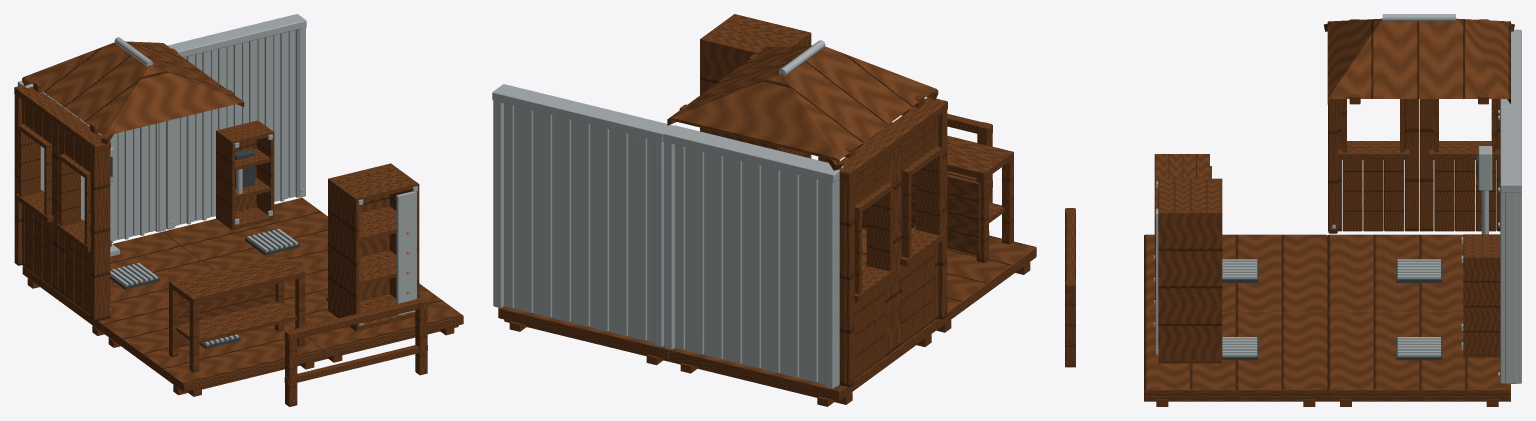
File: roadside-survival-stops-construction-and-service-corne-1941d356__23586.glb
The picture shows the model from 3 angles, left to right: view 1: azimuth 30°, elevation 25°; view 2: azimuth 150°, elevation 25°; view 3: azimuth 270°, elevation 25°; orthographic projection. The views are drawn at different scales.
Visible parts, largest first — view 1: 005-service-bay-side/0, 006-rest-stop-window-wall/0, 007-pump-canopy-corner/0, 010-vending-cabinet-shell/0, 011-service-window-counter/0, 001-service-floor-drain/0, 004-service-bay-side/0, 002-service-floor-drain/0, 000-service-floor-drain/0, 008-payphone-enclosure/0, 003-service-floor-drain/0, 012-modular-survival-base-builder--straight-guardrail/0 (+4 smaller); view 2: 004-service-bay-side/0, 005-service-bay-side/0, 006-rest-stop-window-wall/0, 007-pump-canopy-corner/0, 011-service-window-counter/0, 010-vending-cabinet-shell/0, 001-service-floor-drain/0, 000-service-floor-drain/0, 002-service-floor-drain/0, 012-modular-survival-base-builder--straight-guardrail/0, 007-pump-canopy-corner/1; view 3: 006-rest-stop-window-wall/0, 007-pump-canopy-corner/0, 002-service-floor-drain/0, 003-service-floor-drain/0, 010-vending-cabinet-shell/0, 000-service-floor-drain/0, 001-service-floor-drain/0, 005-service-bay-side/0, 008-payphone-enclosure/0, 012-modular-survival-base-builder--straight-guardrail/0, 011-service-window-counter/0, 009-emergency-call-post/0 (+7 smaller).
Part boxes in pixels (<box>): 005-service-bay-side/0: <box>166,14,306,229</box>; 006-rest-stop-window-wall/0: <box>14,85,111,321</box>; 007-pump-canopy-corner/0: <box>22,41,244,144</box>; 010-vending-cabinet-shell/0: <box>328,163,419,331</box>; 011-service-window-counter/0: <box>169,254,305,372</box>; 001-service-floor-drain/0: <box>103,309,323,396</box>; 004-service-bay-side/0: <box>17,81,165,242</box>; 002-service-floor-drain/0: <box>163,197,327,275</box>; 000-service-floor-drain/0: <box>22,232,214,335</box>; 008-payphone-enclosure/0: <box>216,120,274,230</box>; 003-service-floor-drain/0: <box>284,270,463,362</box>; 012-modular-survival-base-builder--straight-guardrail/0: <box>284,297,427,406</box>; 004-service-bay-side/0: <box>663,125,843,388</box>; 005-service-bay-side/0: <box>492,84,673,347</box>; 006-rest-stop-window-wall/0: <box>839,97,947,386</box>; 007-pump-canopy-corner/0: <box>667,45,938,170</box>; 011-service-window-counter/0: <box>855,122,1013,262</box>; 010-vending-cabinet-shell/0: <box>700,14,811,158</box>; 001-service-floor-drain/0: <box>862,227,1036,332</box>; 000-service-floor-drain/0: <box>669,319,937,406</box>; 002-service-floor-drain/0: <box>498,306,675,365</box>; 012-modular-survival-base-builder--straight-guardrail/0: <box>818,106,992,202</box>; 007-pump-canopy-corner/1: <box>778,40,825,75</box>; 006-rest-stop-window-wall/0: <box>1328,99,1500,233</box>; 007-pump-canopy-corner/0: <box>1324,18,1514,104</box>; 002-service-floor-drain/0: <box>1327,312,1510,406</box>; 003-service-floor-drain/0: <box>1144,312,1327,406</box>; 010-vending-cabinet-shell/0: <box>1158,178,1222,363</box>; 000-service-floor-drain/0: <box>1327,234,1463,312</box>; 001-service-floor-drain/0: <box>1144,234,1327,312</box>; 005-service-bay-side/0: <box>1498,107,1521,383</box>; 008-payphone-enclosure/0: <box>1463,234,1500,357</box>; 012-modular-survival-base-builder--straight-guardrail/0: <box>1065,208,1075,367</box>; 011-service-window-counter/0: <box>1154,154,1211,299</box>; 009-emergency-call-post/0: <box>1478,146,1492,234</box>.
Size of the model in its own units: 4.15 by 3.33 by 4.98.
Materials: 4 (1 with a texture image).
